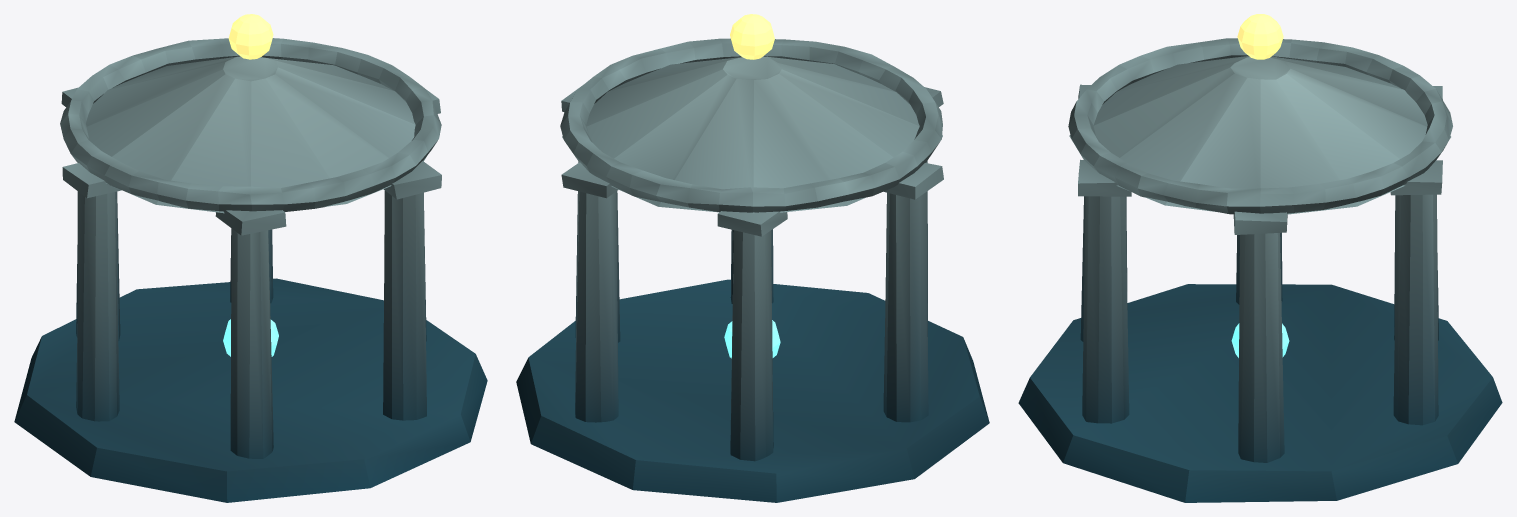
File: ruin_dome_shrine.glb
The picture shows the model from 3 angles, left to right: view 1: azimuth 30°, elevation 25°; view 2: azimuth 150°, elevation 25°; view 3: azimuth 270°, elevation 25°; orthographic projection.
Visible parts, largest first — view 1: ruin_dome_shrine_stone, ruin_dome_shrine_warm; view 2: ruin_dome_shrine_stone, ruin_dome_shrine_warm; view 3: ruin_dome_shrine_stone, ruin_dome_shrine_warm.
Boxes of the visible parts, <box> form: ruin_dome_shrine_stone: <box>14,38,487,502</box>; ruin_dome_shrine_warm: <box>228,14,273,59</box>; ruin_dome_shrine_stone: <box>516,38,989,502</box>; ruin_dome_shrine_warm: <box>730,14,774,59</box>; ruin_dome_shrine_stone: <box>1018,38,1502,502</box>; ruin_dome_shrine_warm: <box>1237,14,1283,59</box>.
Size of the model in its own units: 8.02 by 7.42 by 8.37.
